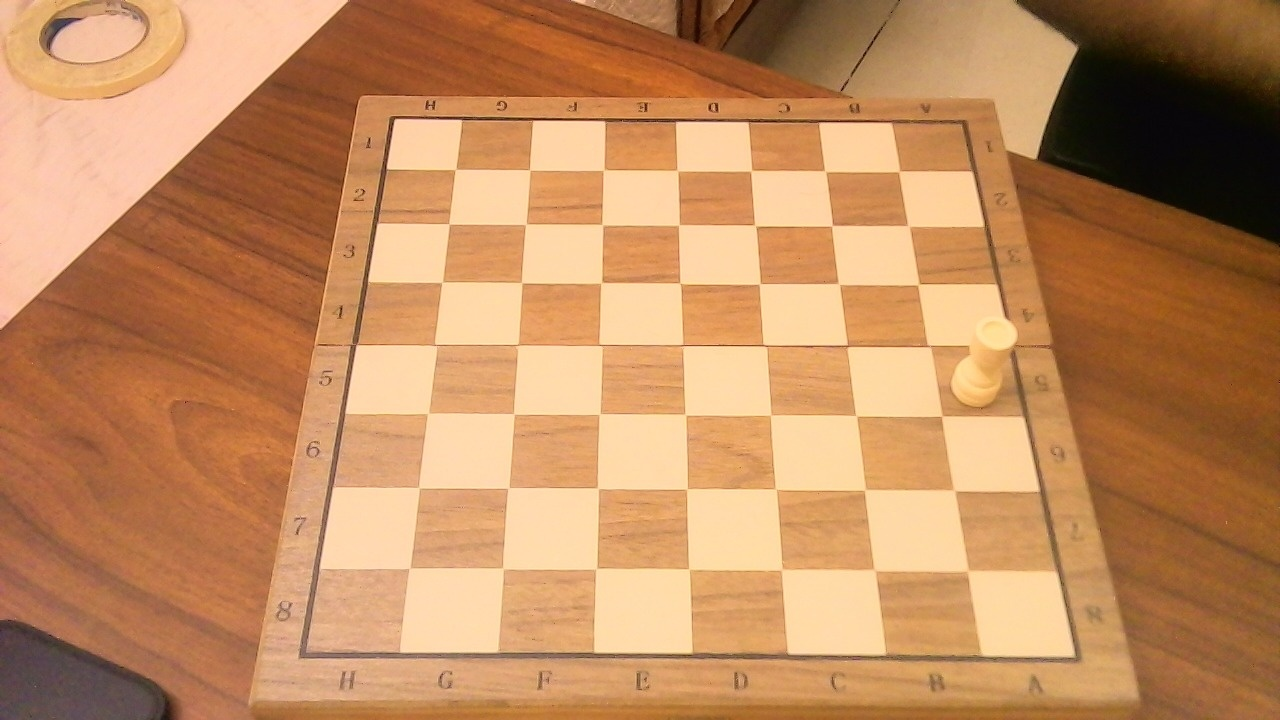R: (945, 305, 1024, 413)
